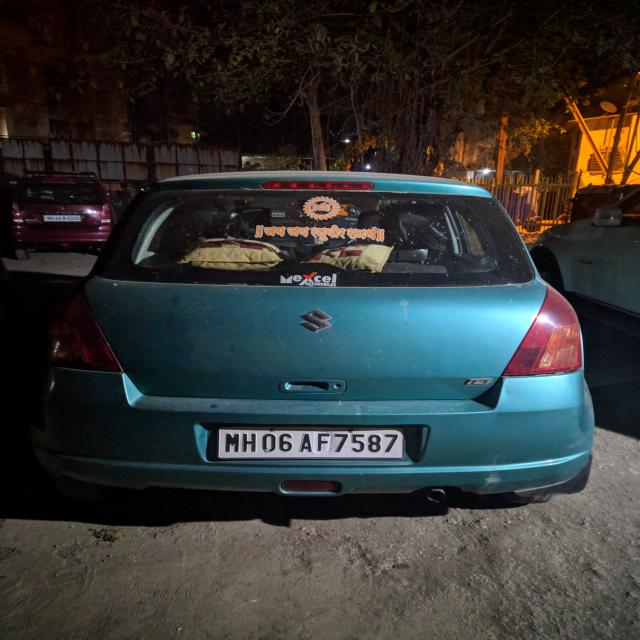Number-Plate: (215, 427, 408, 458)
